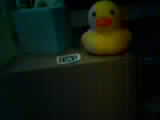duck: (75, 14, 124, 53)
